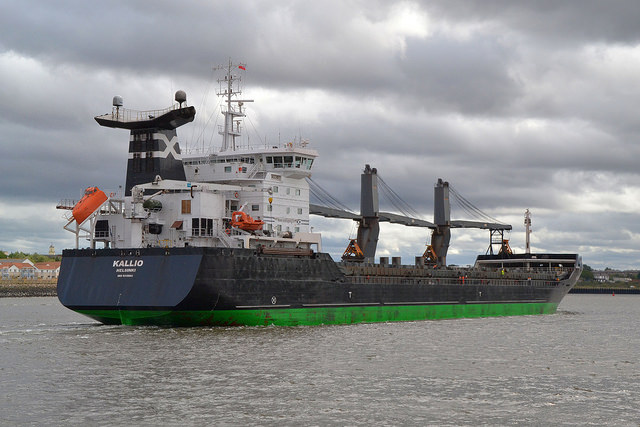bulk carrier: (58, 65, 584, 324)
